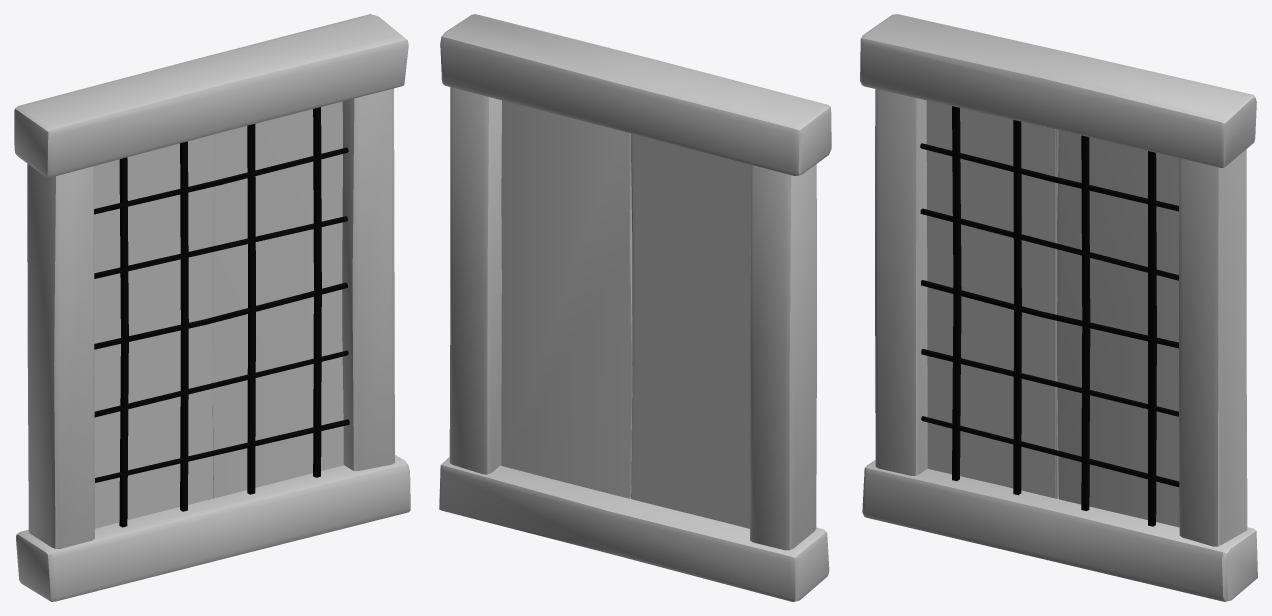
The model's file is SM_Window_02_LOD_01.FBX.
The picture shows the model from 3 angles, left to right: view 1: azimuth 30°, elevation 25°; view 2: azimuth 150°, elevation 25°; view 3: azimuth 330°, elevation 25°; orthographic projection.
Parts seen in each view (by area): view 1: SM_Window_02, SM_Window_02_Shutter_Right, SM_Window_02_Shutter_Left; view 2: SM_Window_02, SM_Window_02_Shutter_Right, SM_Window_02_Shutter_Left; view 3: SM_Window_02, SM_Window_02_Shutter_Left, SM_Window_02_Shutter_Right.
Boxes of the visible parts, box(x1,y1,x2,y2) form: SM_Window_02: box(14, 14, 410, 601); SM_Window_02_Shutter_Right: box(212, 101, 343, 498); SM_Window_02_Shutter_Left: box(94, 134, 213, 528); SM_Window_02: box(439, 14, 831, 601); SM_Window_02_Shutter_Right: box(501, 100, 632, 498); SM_Window_02_Shutter_Left: box(631, 133, 750, 528); SM_Window_02: box(860, 14, 1257, 601); SM_Window_02_Shutter_Left: box(926, 100, 1058, 498); SM_Window_02_Shutter_Right: box(1057, 130, 1179, 527).
Size of the model in its own units: 1.06 by 1.34 by 0.1914.
